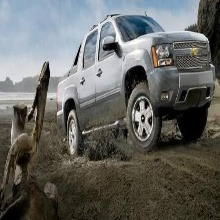no damage: (54, 14, 215, 156)
